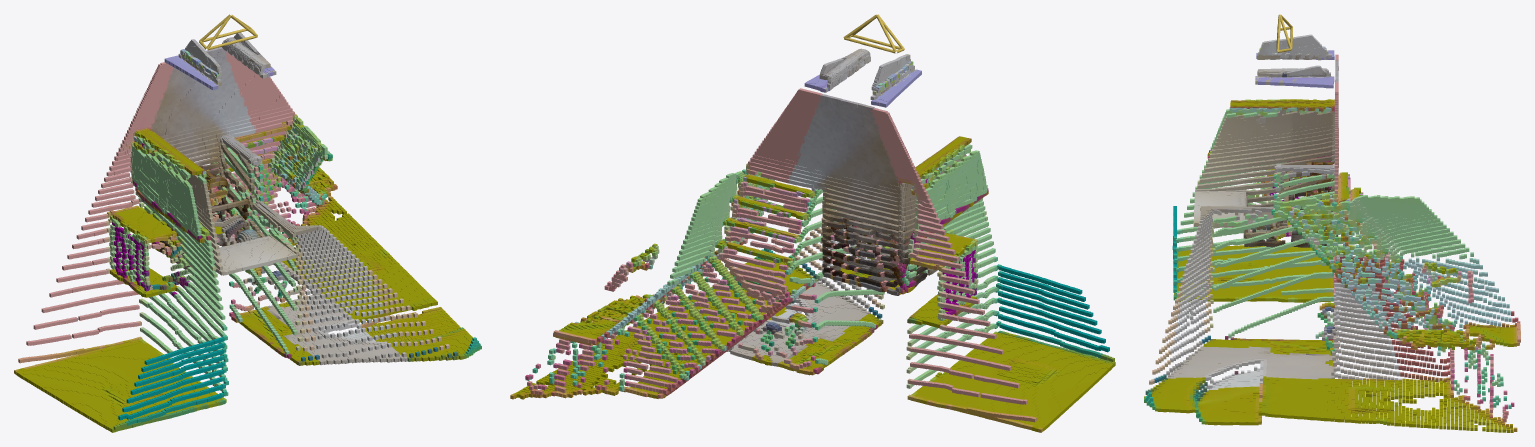
The picture shows the model from 3 angles, left to right: view 1: azimuth 30°, elevation 25°; view 2: azimuth 150°, elevation 25°; view 3: azimuth 270°, elevation 25°; orthographic projection. The views are drawn at different scales.
Bounding box in the file's own units: 6.67 × 5.29 × 5.58.
